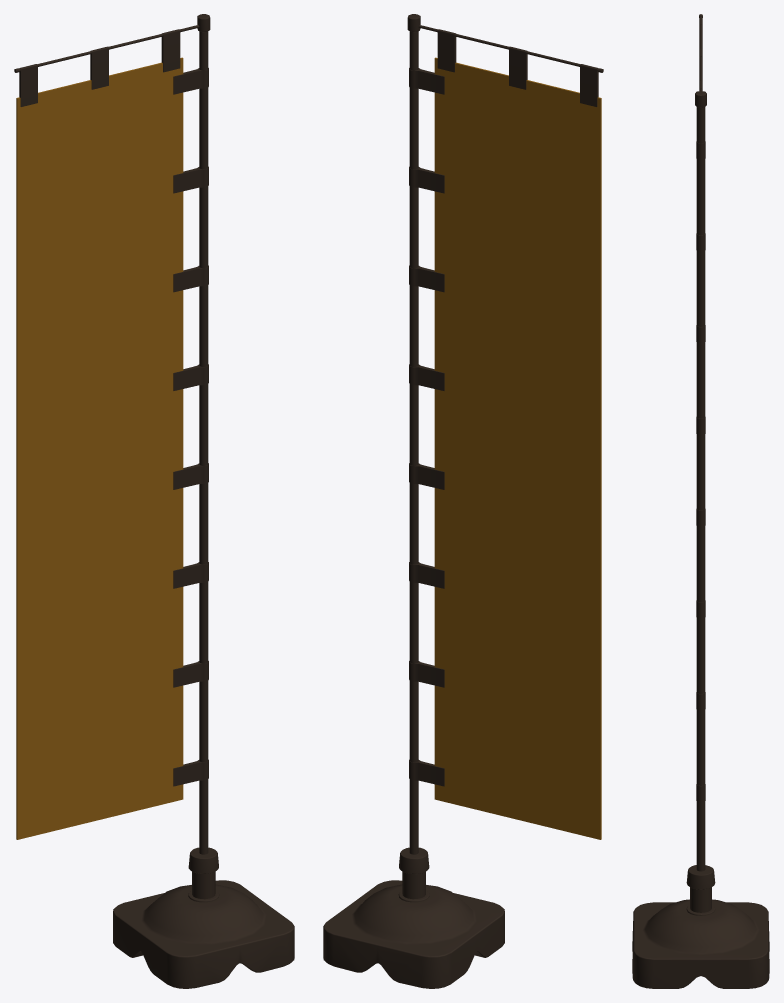
Rendered from Banner_Standing_01.FBX.
3 views of the same model, side by side, from view 1: azimuth 30°, elevation 25°; view 2: azimuth 150°, elevation 25°; view 3: azimuth 270°, elevation 25° (orthographic). The views are drawn at different scales.
Parts seen in each view (by area): view 1: Banner_Standing_01; view 2: Banner_Standing_01; view 3: Banner_Standing_01.
Part boxes in pixels (x1=…): Banner_Standing_01: x1=14, y1=14, x2=294, y2=988; Banner_Standing_01: x1=323, y1=14, x2=603, y2=988; Banner_Standing_01: x1=632, y1=14, x2=769, y2=988.
Size of the model in its own units: 79.96 by 284 by 40.77.
